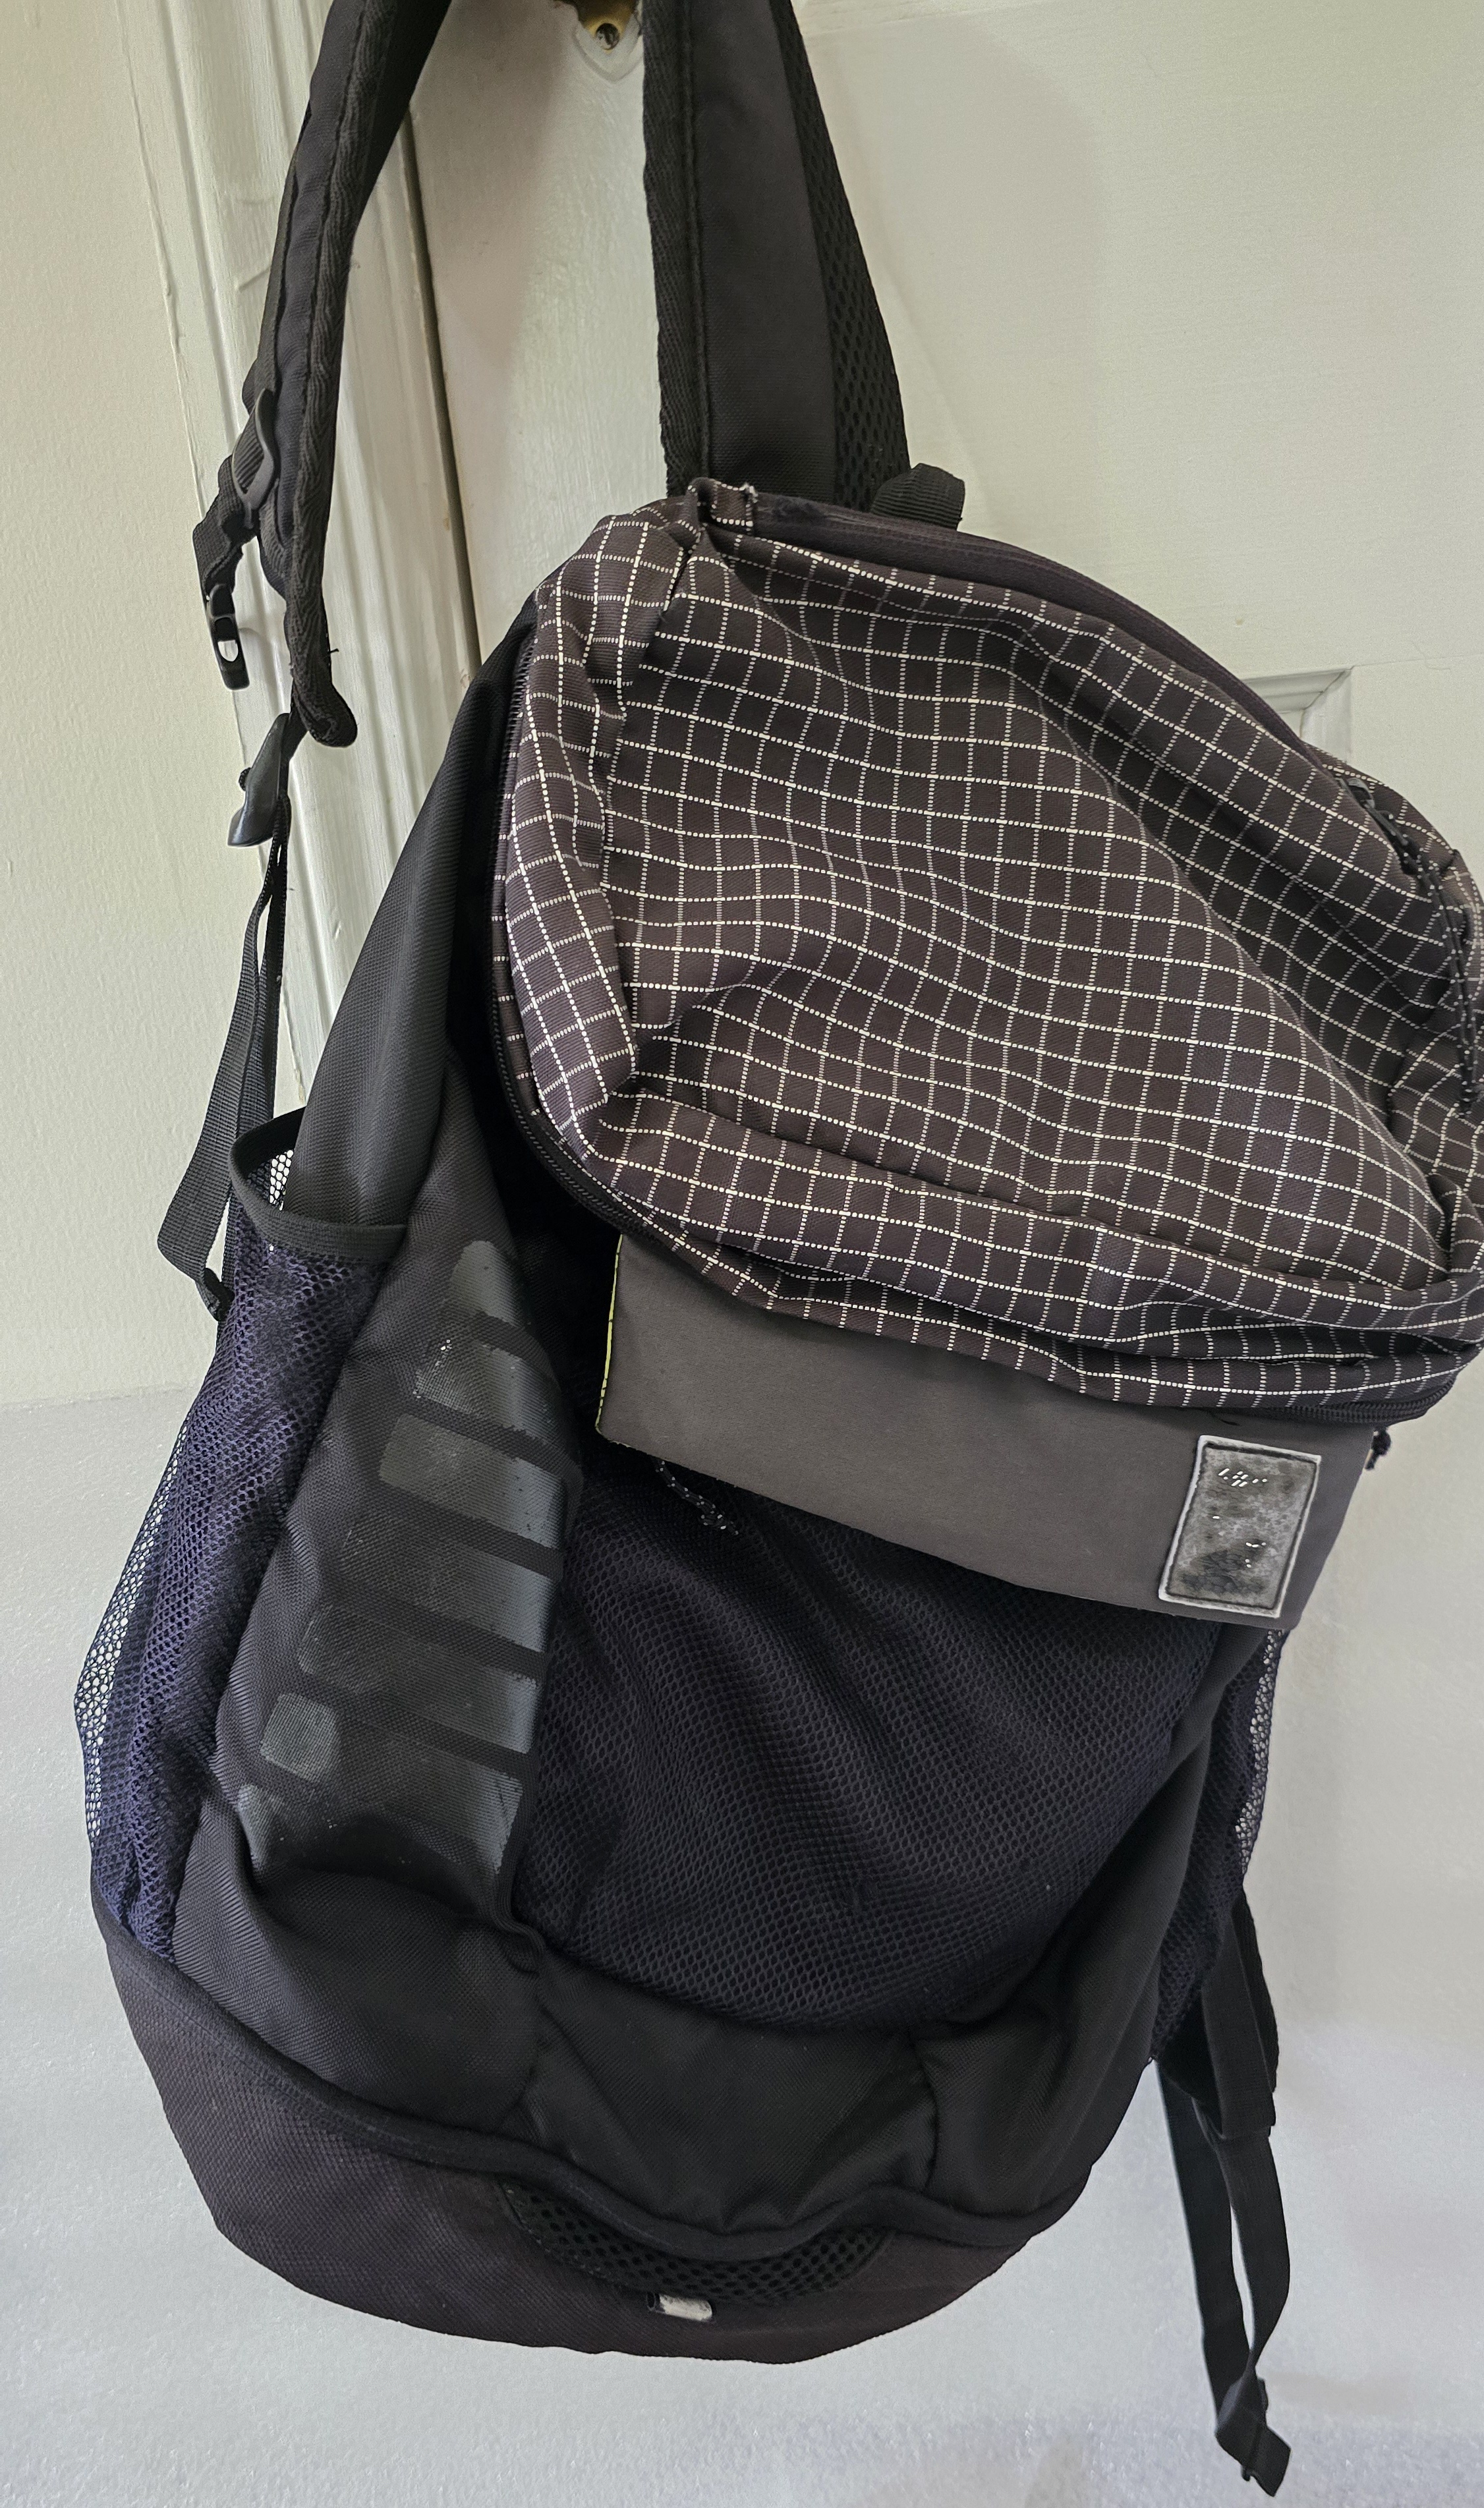bag: (55, 16, 1415, 2421)
